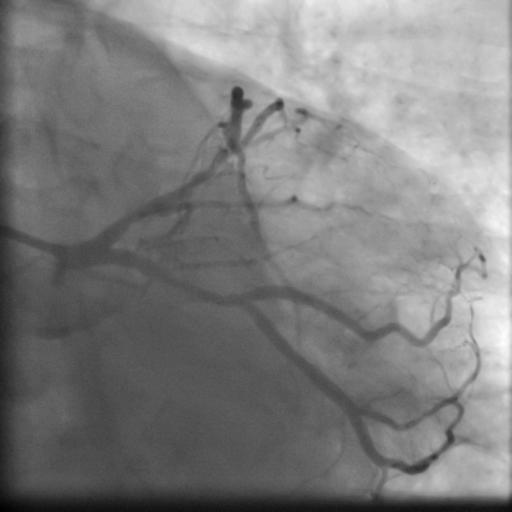Stenosis: (116, 201, 152, 224)
